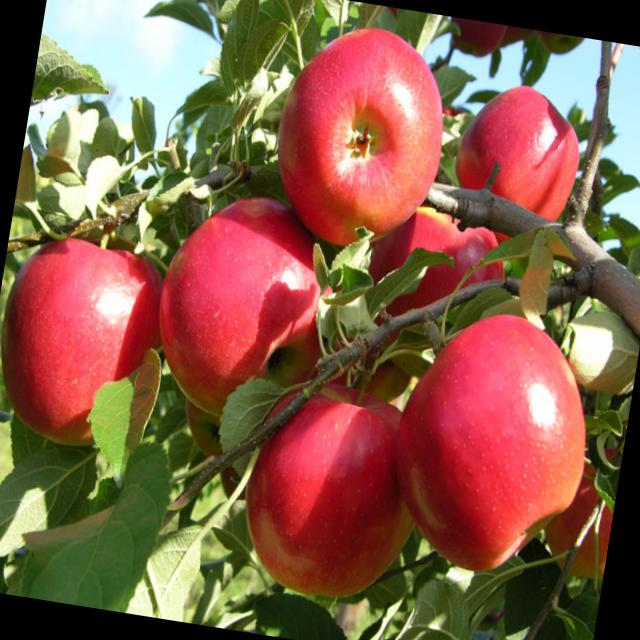apple: (373, 287, 602, 598), (227, 358, 452, 624), (138, 178, 356, 434), (255, 14, 471, 247), (0, 205, 183, 475), (348, 194, 526, 376), (439, 78, 597, 272)
